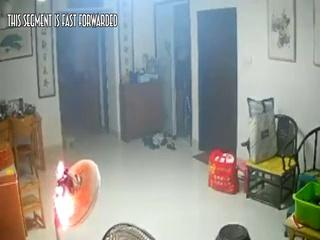Fire: (49, 140, 86, 236)
